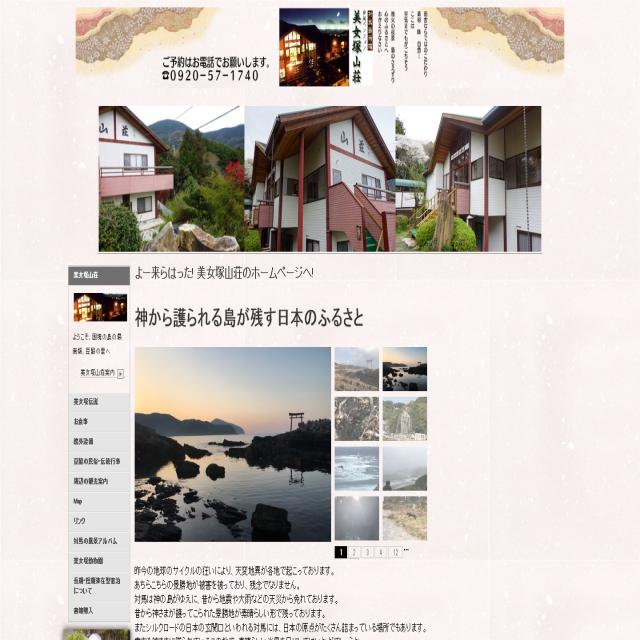button: (70, 389, 132, 619)
heading: (134, 304, 371, 334), (133, 264, 328, 287), (157, 51, 274, 80), (72, 267, 103, 282)
image: (99, 104, 543, 254), (134, 346, 428, 544), (74, 0, 571, 81)
text: (134, 565, 428, 640), (74, 292, 128, 322), (72, 330, 124, 357)
